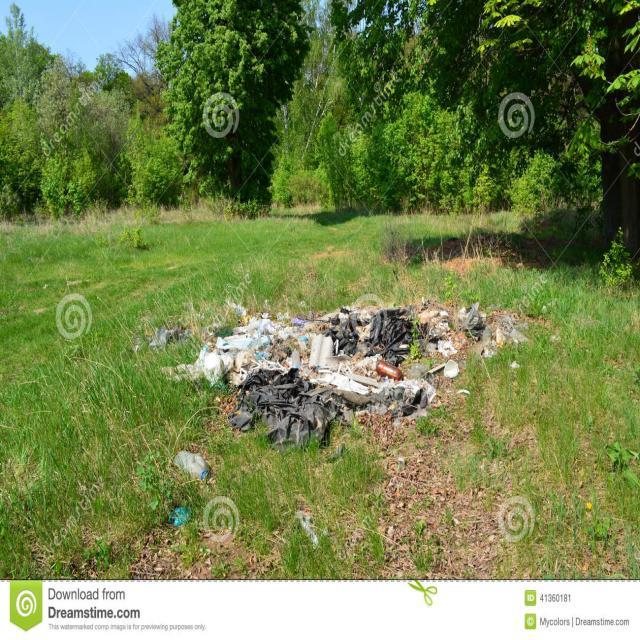trash: (142, 292, 538, 458)
